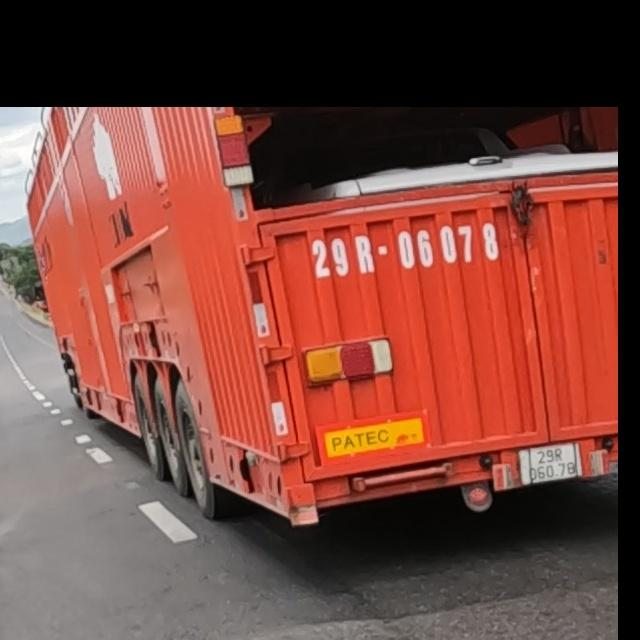license-plate: (520, 443, 580, 485)
